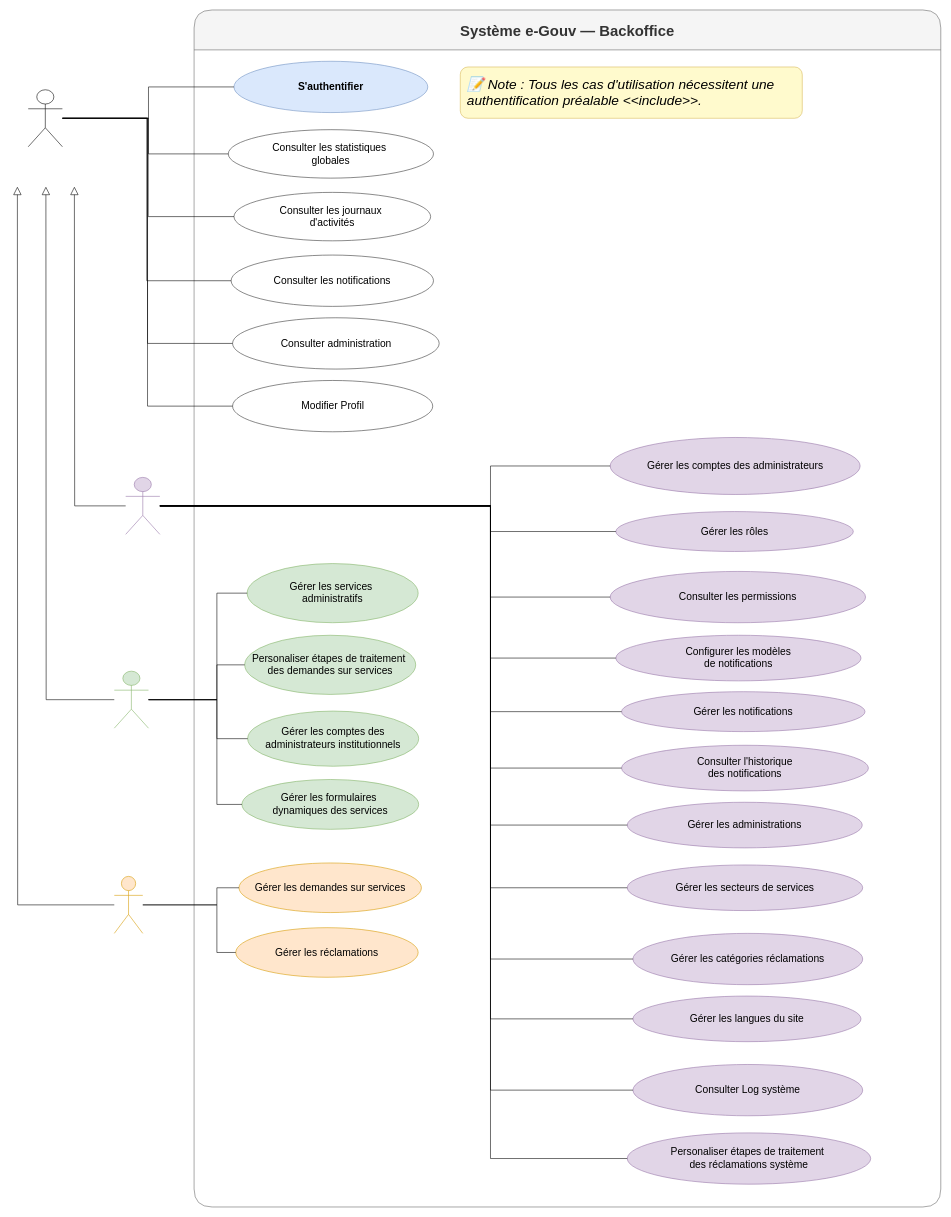
Some shapes in this 951 by 1217 pixel diagram are drawn without their labels. Each missing label, with the centre of its shape:
"Administrateur" belongs at point 45,118.
"Administrateur Institutionnel" belongs at point 128,904.
"Administrateur Ministériel" belongs at point 131,699.
"Administrateur systéme" belongs at point 142,505.
